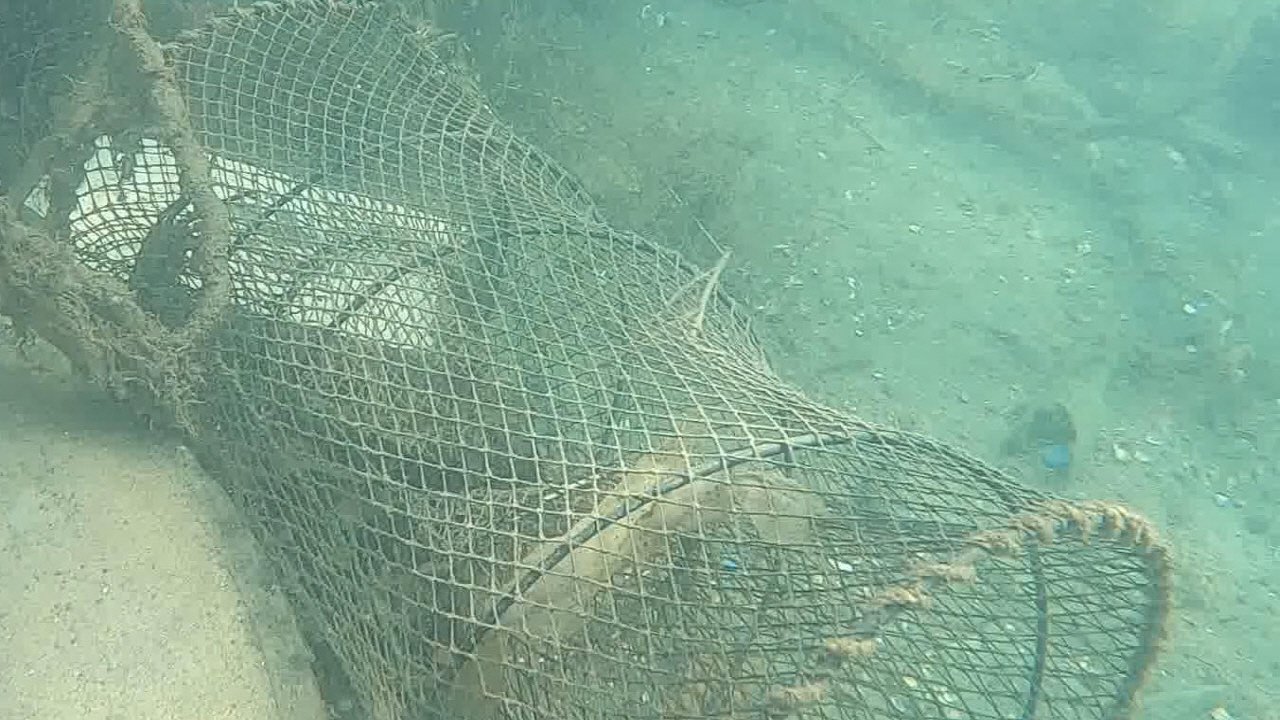rope: (107, 5, 237, 346)
spring fish trap: (57, 0, 1179, 720)
